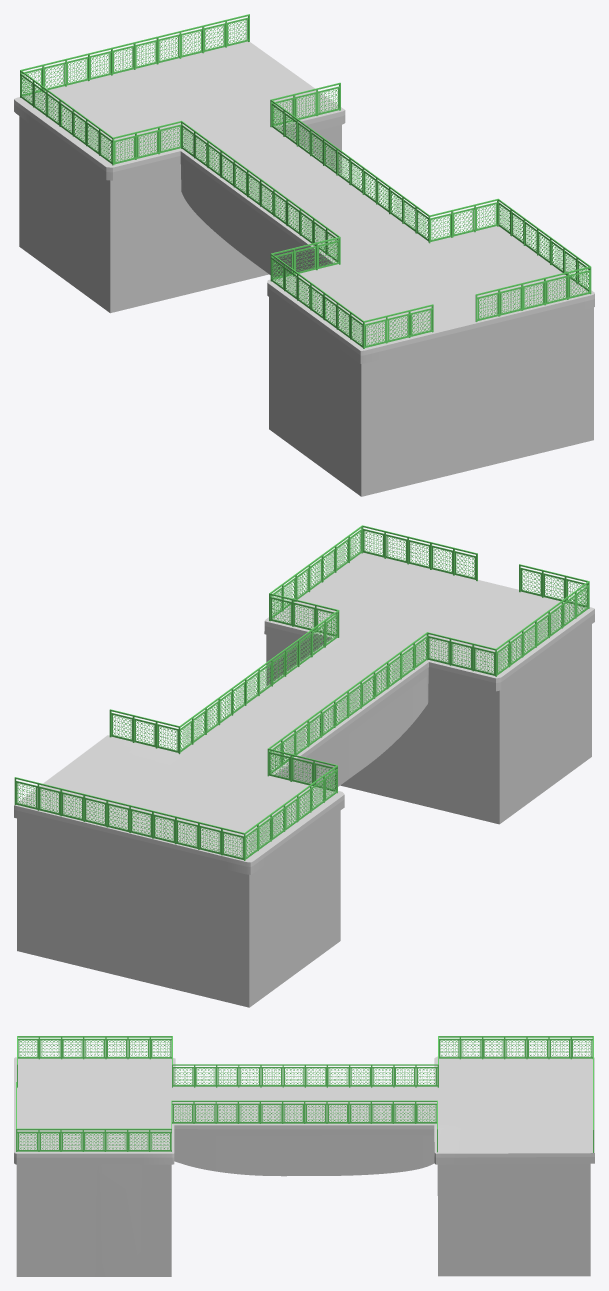
Rendered from BridgedBuilding.fbx.
3 renders of one model, top to bottom at view 1: azimuth 30°, elevation 25°; view 2: azimuth 150°, elevation 25°; view 3: azimuth 270°, elevation 25°, orthographic. The views are drawn at different scales.
Parts seen in each view (by area): view 1: Cube.114, Circle.001, Circle.005, Circle.004, Circle.011, Circle.006, Circle, Circle.002, Circle.008, Circle.010, Circle.003, Circle.007 (+1 smaller); view 2: Cube.114, Circle.001, Circle.005, Circle.004, Circle.011, Circle, Circle.006, Circle.002, Circle.007, Circle.009, Circle.008, Circle.010 (+1 smaller); view 3: Cube.114, Circle.004, Circle.005, Circle.002, Circle, Circle.006.
Boxes of the visible parts, x1,y1,x2,y2 form: Cube.114: (14,41,594,496); Circle.001: (21,14,249,96); Circle.005: (271,100,430,243); Circle.004: (181,120,339,261); Circle.011: (475,266,590,321); Circle.006: (270,253,363,347); Circle: (20,70,112,163); Circle.002: (498,199,591,294); Circle.008: (112,121,181,165); Circle.010: (363,304,432,348); Circle.003: (430,198,498,241); Circle.007: (270,83,339,127); Cube.114: (14,551,594,1007); Circle.001: (14,777,243,859); Circle.005: (180,610,339,752); Circle.004: (267,632,427,776); Circle.011: (362,525,477,581); Circle: (244,765,337,860); Circle.006: (495,581,588,676); Circle.002: (270,525,363,618); Circle.007: (111,709,180,754); Circle.009: (426,632,495,675); Circle.008: (268,748,337,793); Circle.010: (520,564,589,608); Cube.114: (14,1056,594,1276); Circle.004: (173,1064,438,1087); Circle.005: (171,1100,436,1123); Circle.002: (16,1128,171,1151); Circle: (439,1036,593,1059); Circle.006: (18,1036,172,1059).
Size of the model in its own units: 1081 by 757 by 2722.
